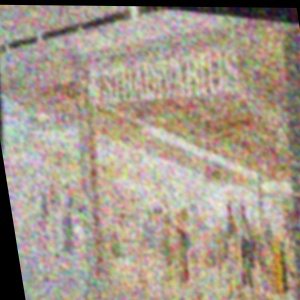stradivarius: (53, 85, 300, 105)
